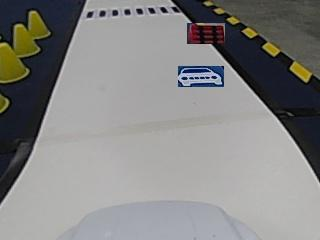crosswalk: (83, 5, 179, 18)
